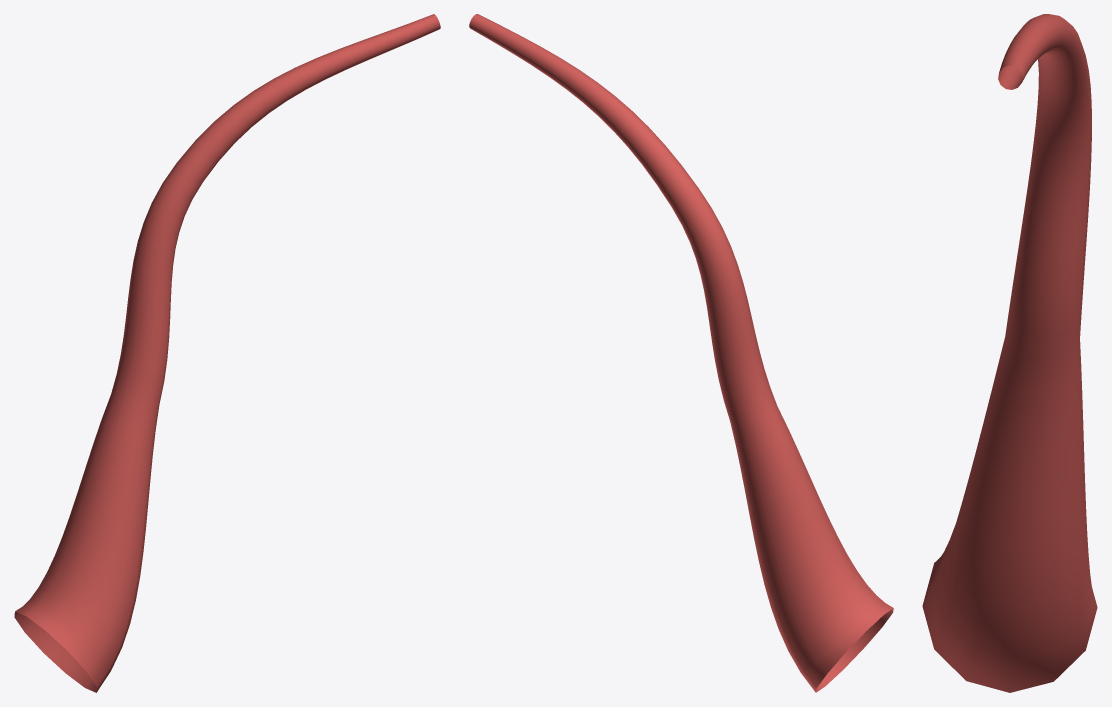
The picture shows the model from 3 angles, left to right: view 1: azimuth 30°, elevation 25°; view 2: azimuth 150°, elevation 25°; view 3: azimuth 270°, elevation 25°; orthographic projection. The views are drawn at different scales.
Parts seen in each view (by area): view 1: 左侧肾动脉后支; view 2: 左侧肾动脉后支; view 3: 左侧肾动脉后支.
Part boxes in pixels (x1,y1,x2,y2): 左侧肾动脉后支: (14, 14, 440, 692); 左侧肾动脉后支: (469, 14, 893, 692); 左侧肾动脉后支: (922, 14, 1097, 692).
Size of the model in its own units: 0.0421 by 0.0574 by 0.0103.
